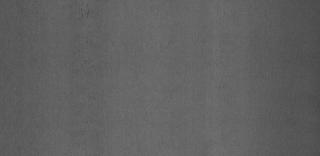silk spot: (68, 2, 122, 90)
